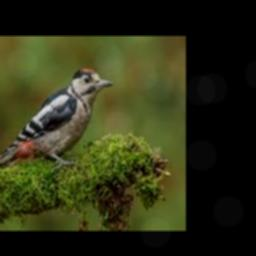Woodpecker: (0, 68, 113, 170)
